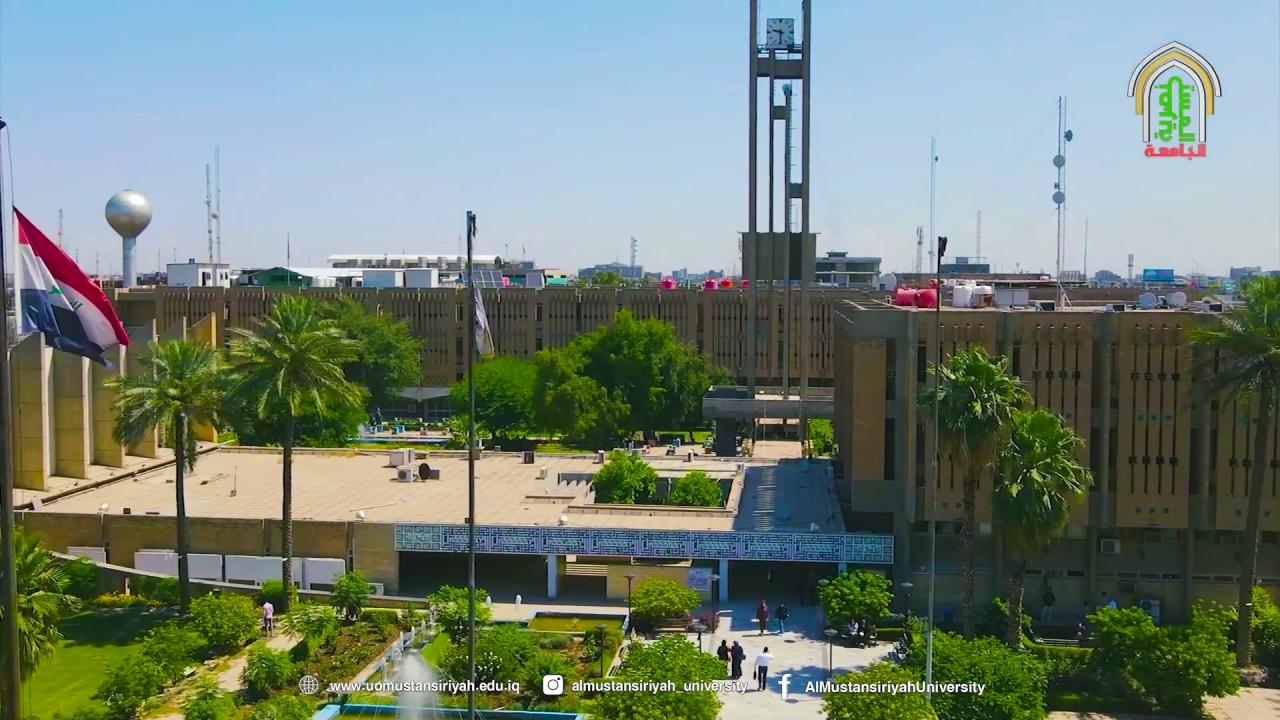car: (702, 436, 714, 448)
fountain: (308, 622, 588, 720)
person: (753, 646, 773, 691), (729, 640, 745, 679), (1040, 586, 1055, 623), (716, 640, 730, 676), (774, 601, 788, 635), (756, 599, 769, 635), (261, 600, 274, 636), (857, 617, 867, 648), (847, 619, 858, 646), (428, 602, 437, 631)
tree: (217, 293, 370, 612), (1182, 272, 1280, 670), (101, 335, 236, 615), (914, 341, 1032, 640), (531, 306, 736, 449), (987, 405, 1095, 650), (818, 626, 1052, 719), (1082, 596, 1242, 718), (8, 522, 91, 718), (317, 292, 425, 431), (577, 632, 729, 719), (526, 346, 631, 449), (437, 622, 542, 704), (448, 354, 538, 441), (817, 657, 939, 719), (815, 569, 894, 646), (186, 588, 262, 652), (1228, 583, 1280, 675), (626, 576, 702, 638), (278, 598, 341, 660), (425, 583, 491, 641), (589, 448, 657, 504), (238, 640, 293, 700), (328, 567, 370, 621), (668, 470, 722, 508), (442, 411, 487, 449), (806, 417, 836, 458)
